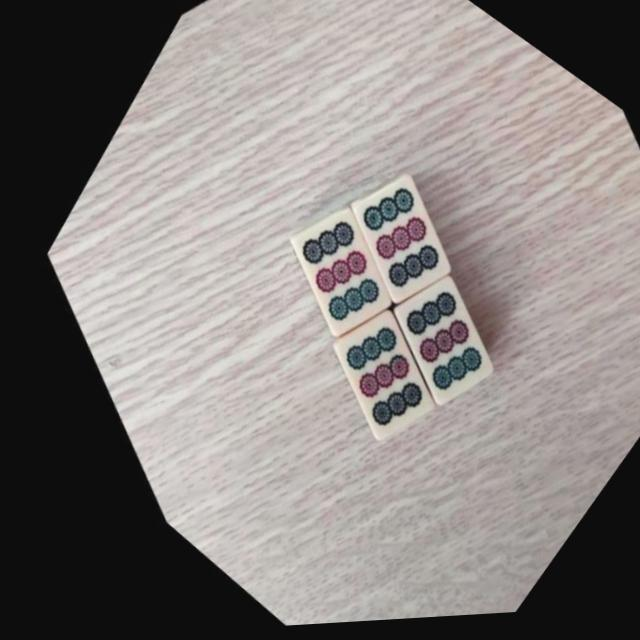sd9: (305, 161, 475, 328), (244, 195, 412, 361), (347, 263, 515, 428), (285, 297, 452, 461)
